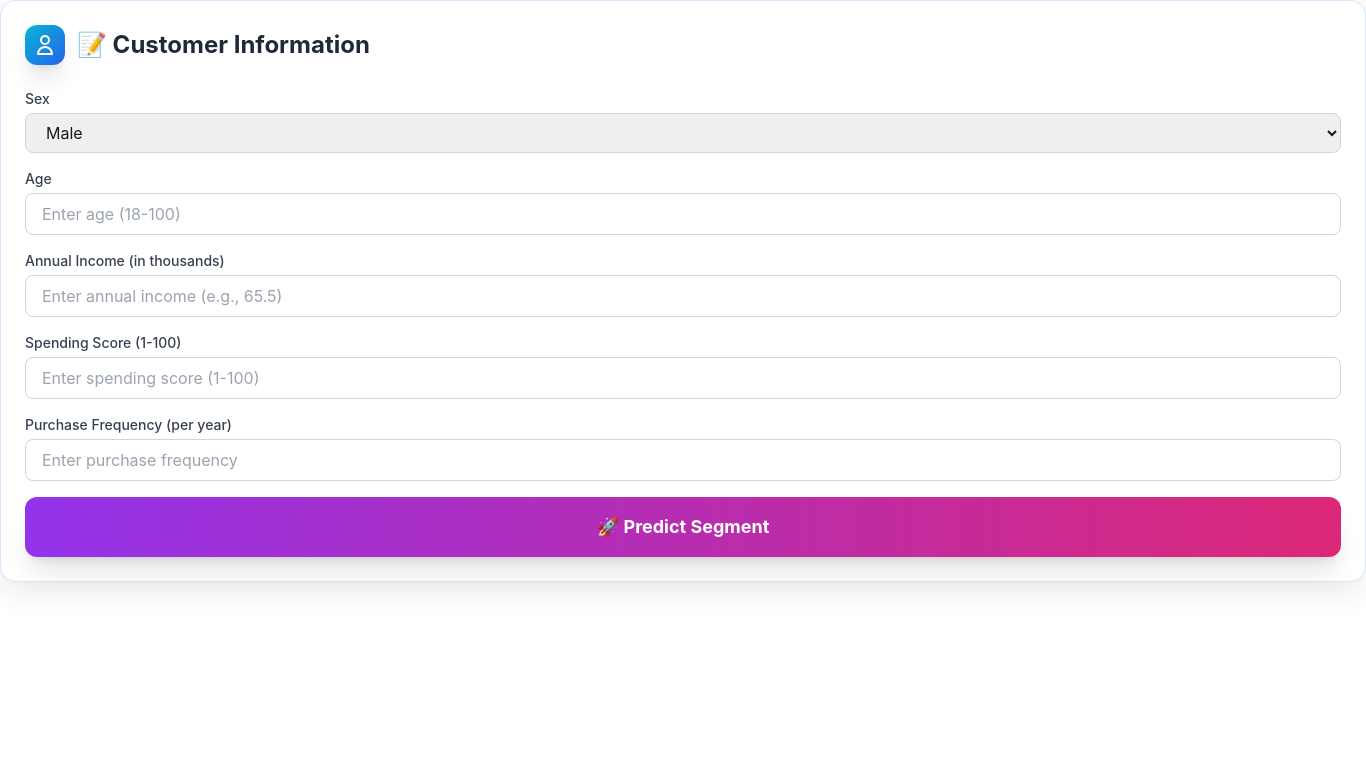
Test: CustomerForm › validates spending score range
# Test score too low
Step 1. Type "0" into the number field labelled "Spending Score (1-100)" → (683, 378), box [25,357,1341,399]
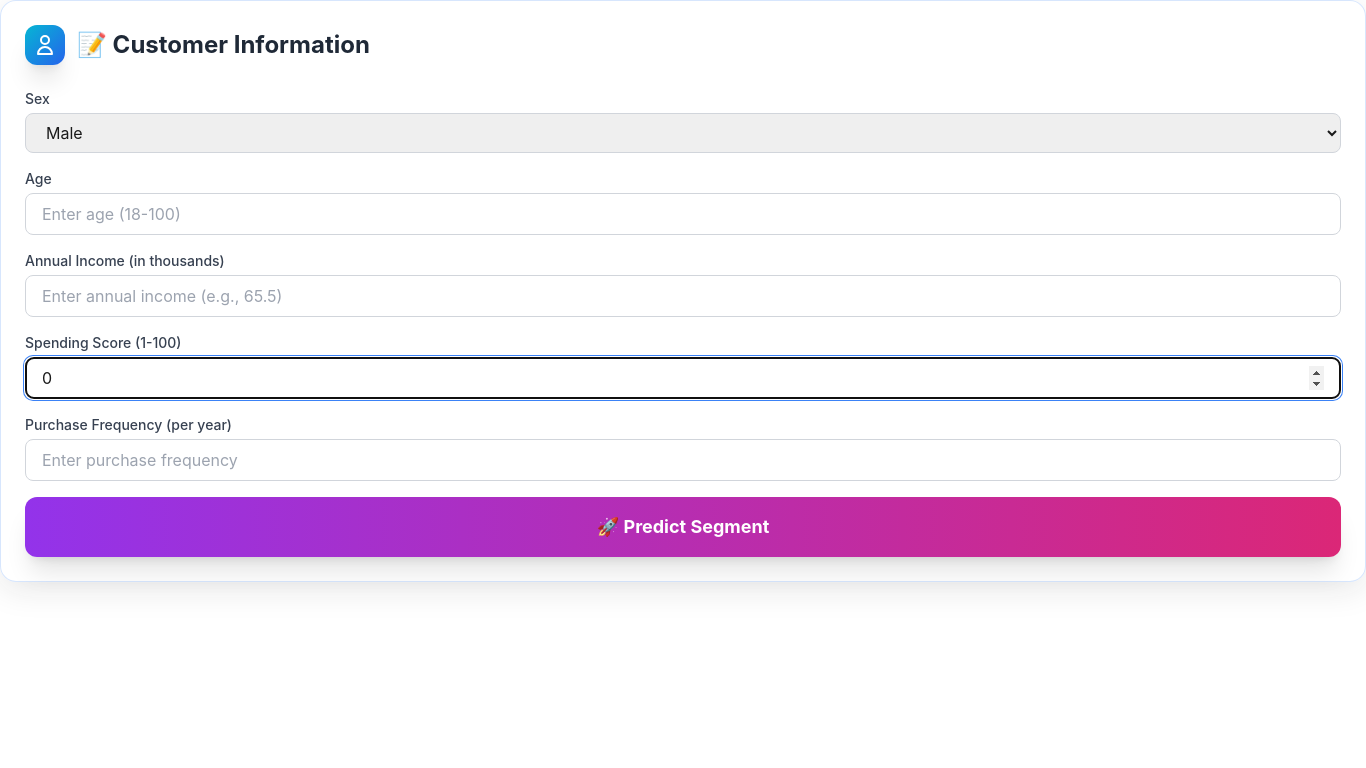
Step 2. Click the button "🚀 Predict Segment" → (683, 527), box [25,497,1341,557]
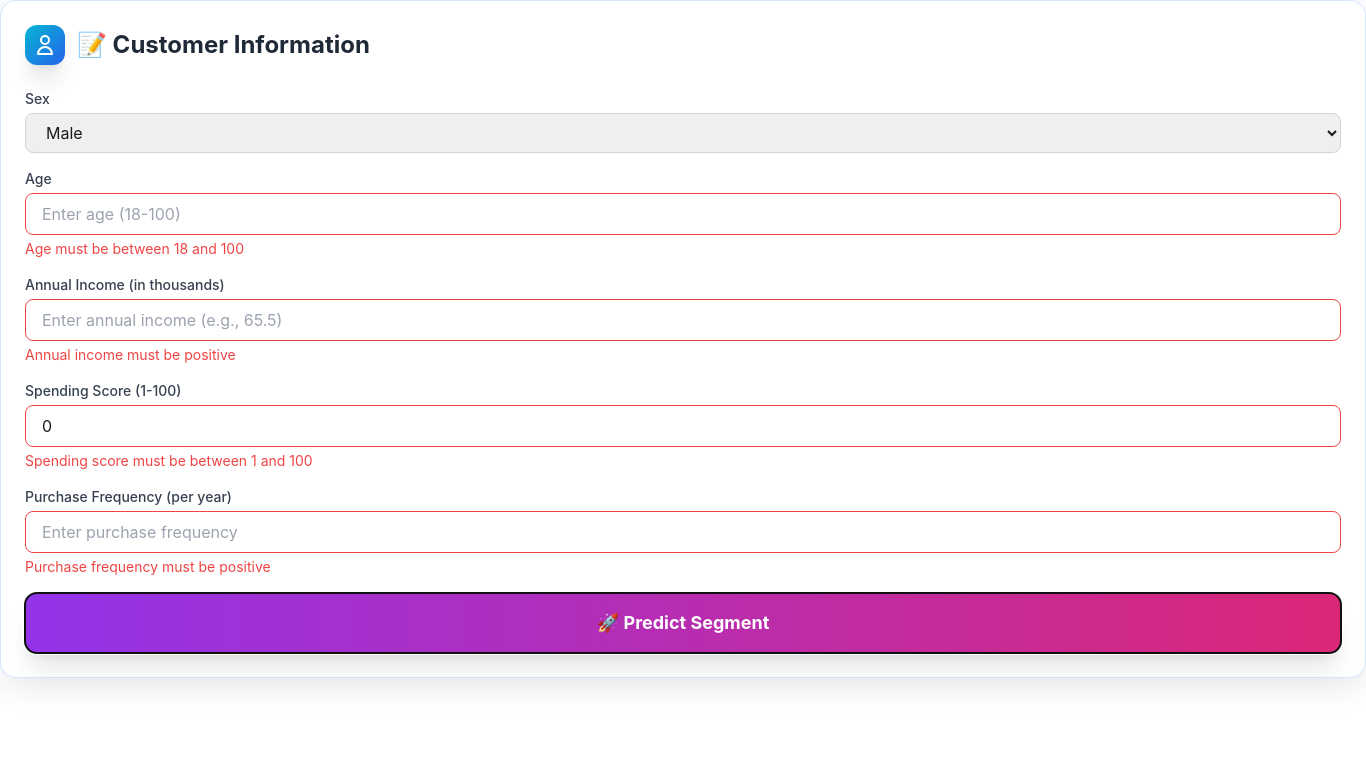
Now the text "Spending score must be between 1 and 100" is shown, box [25,452,313,469]
# Test score too high
Step 3. Replace the text in the number field labelled "Spending Score (1-100)" with "150" → (683, 426), box [25,405,1341,447]
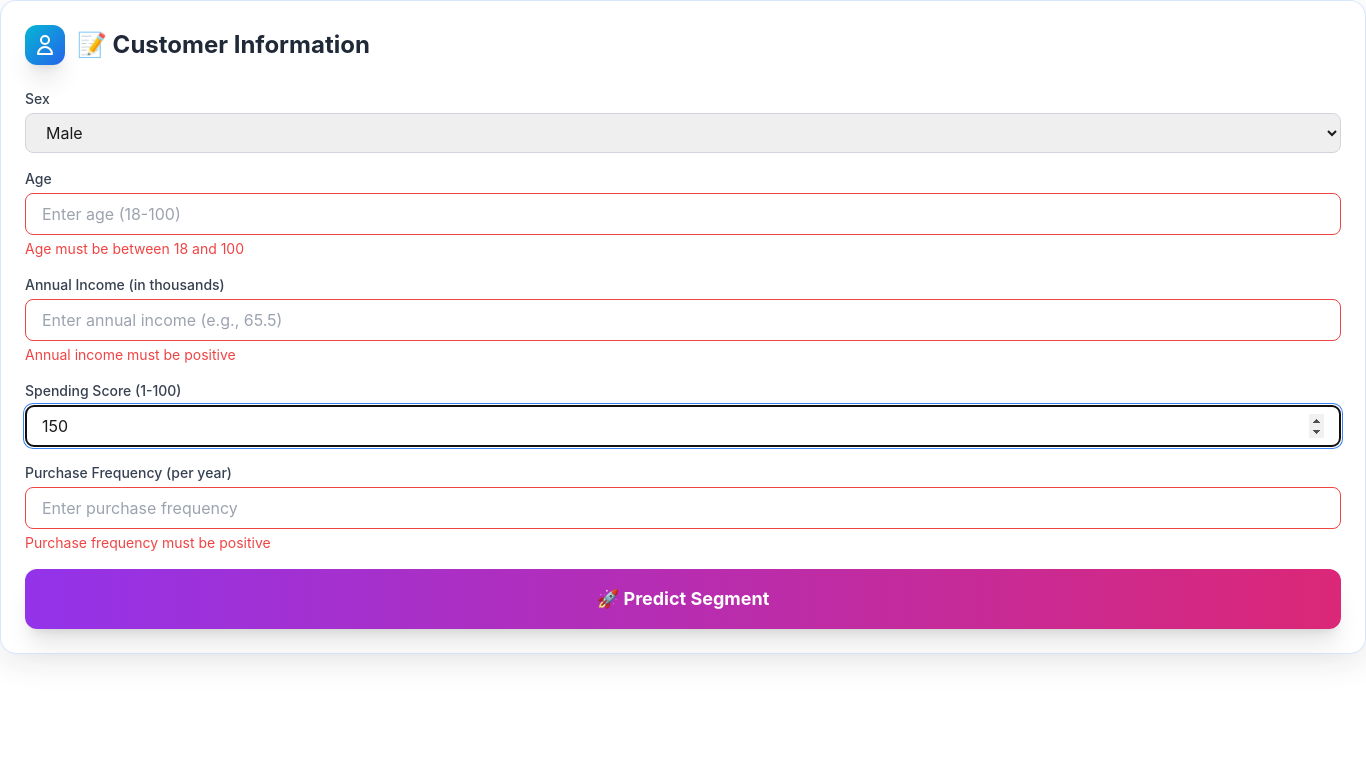
Step 4. Click the button "🚀 Predict Segment" → (683, 599), box [25,569,1341,629]
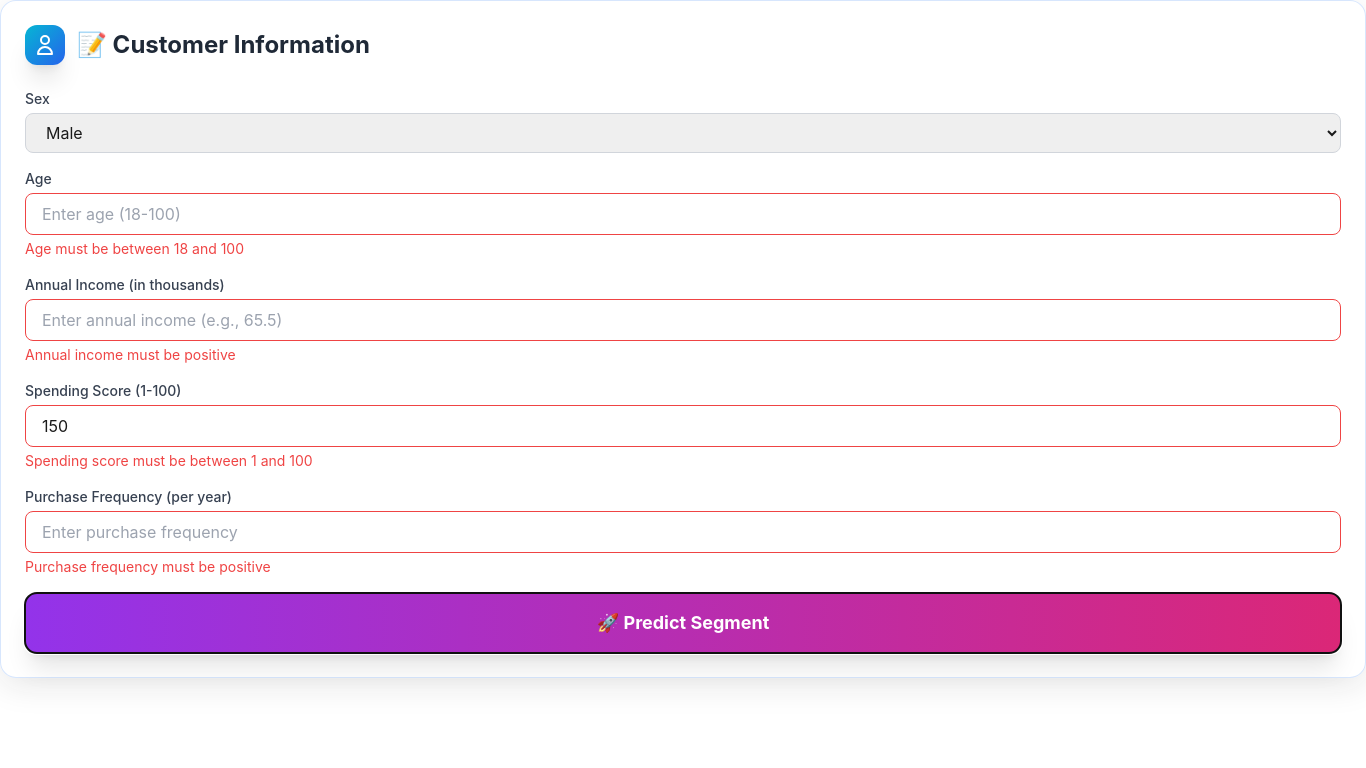
Now the text "Spending score must be between 1 and 100" is shown, box [25,452,313,469]
